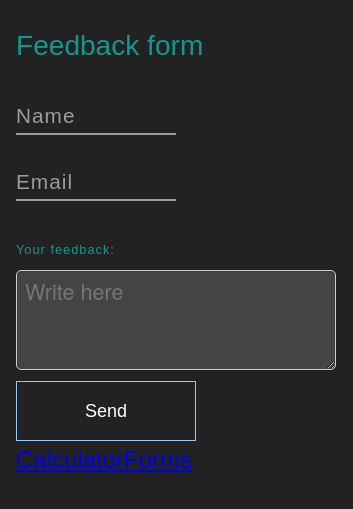
Test: Successful Submission › should display a success message upon form submission
Type "Testbruker" into the field named "name" at (96, 115), box [16,95,176,135]
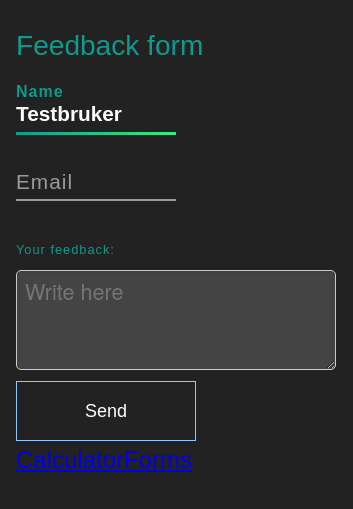
Type "test@example.com" into the field named "email" at (96, 181), box [16,161,176,201]
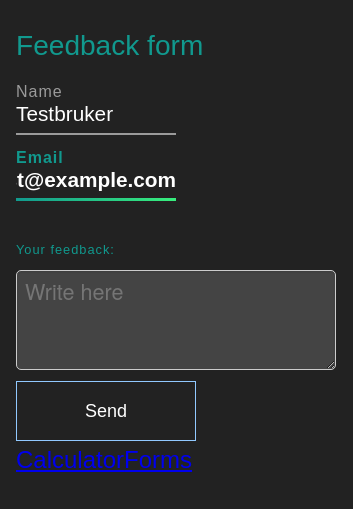
Type "Dette er en testmelding." into the text box named "comment[text" at (176, 320), box [16,270,336,370]
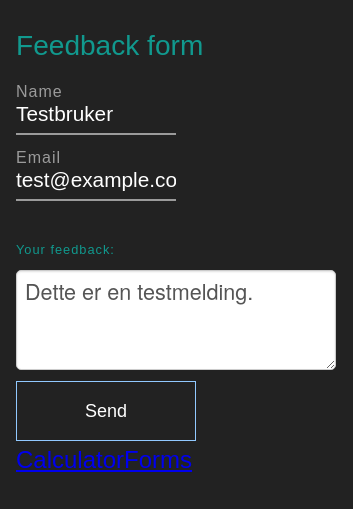
Expected: the submit button is enabled
Click the submit button at (106, 411), box [16,381,196,441]
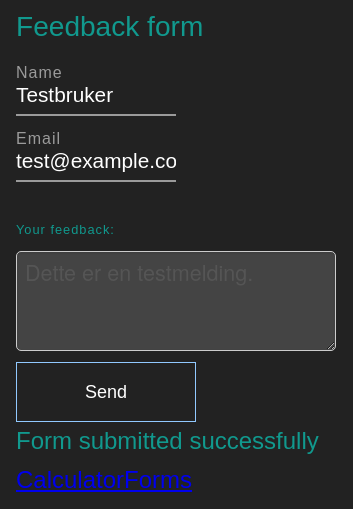
Expected: the text "Form submitted successfully" is shown, [16,422,336,461]
